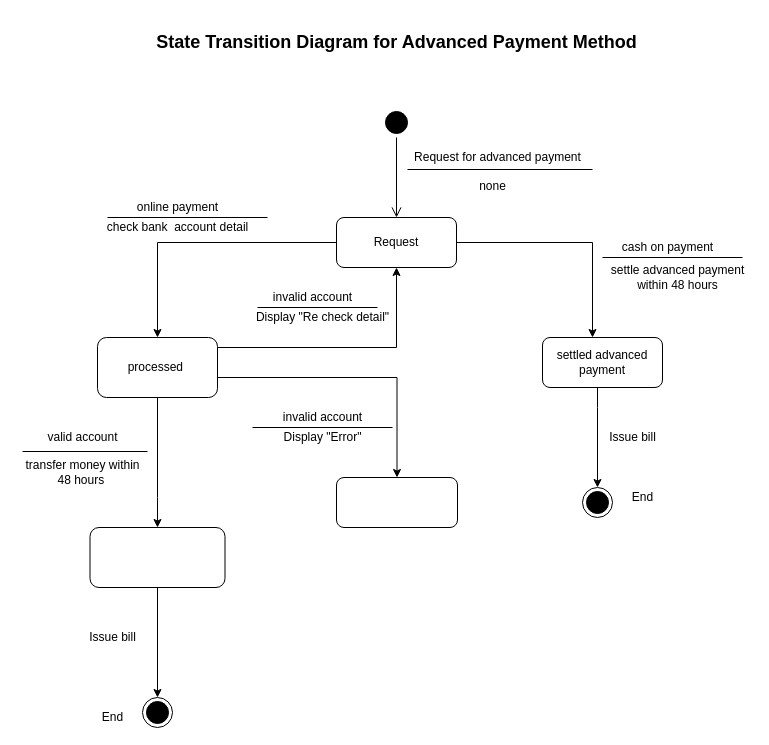
Some shapes in this 769 by 745 pixel diagram are drawn without their labels. Here are the shapes that lost their labels. From the top down, the centre of each, then its label:
At point 397,502: "rejected".
At point 157,557: "Transaction completed and settled advanced payment".
